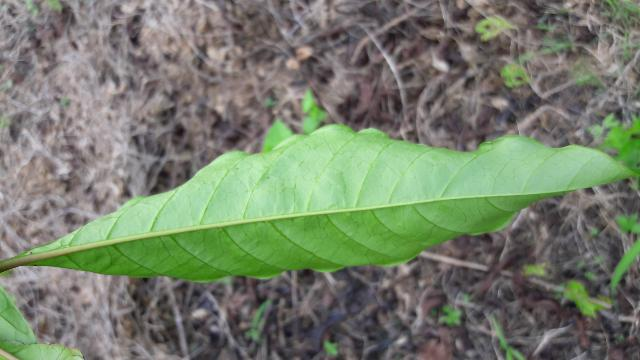healthy: (13, 118, 640, 282)
